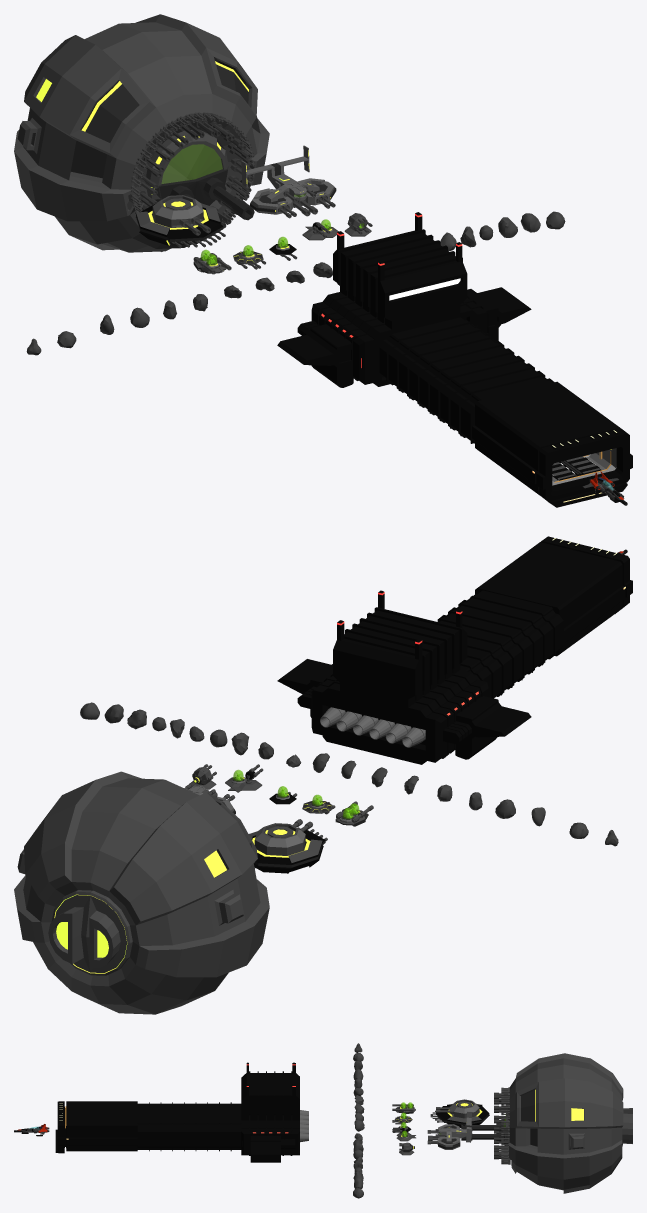
File: Killspace_assets.fbx
3 views of the same model, one above another, from view 1: azimuth 30°, elevation 25°; view 2: azimuth 150°, elevation 25°; view 3: azimuth 270°, elevation 25° (orthographic). The views are drawn at different scales.
Parts seen in each view (by area): view 1: Sphere, Cube.020, Cube.021, Cube.022, Cylinder.027, Cube, Cylinder.023, Cylinder.026, Cylinder.022, Cylinder.028, Cube.019, Cube.016; view 2: Sphere, Cube.021, Cube.020, Cube.022, Cylinder.033, Cylinder.023, Cylinder.022; view 3: Sphere, Cube.020, Cube.021, Cube.022, Cube, Cylinder.027, Cylinder.026, Cylinder.023, Cylinder.028, Cylinder.022, Cylinder.033.
Boxes of the visible parts, x1,y1,x2,y2 form: Sphere: (14, 14, 269, 252); Cube.020: (379, 317, 632, 507); Cube.021: (311, 212, 488, 386); Cube.022: (277, 287, 531, 387); Cylinder.027: (137, 119, 253, 228); Cube: (241, 145, 336, 214); Cylinder.023: (136, 203, 223, 245); Cylinder.026: (130, 112, 255, 236); Cylinder.022: (152, 195, 203, 227); Cylinder.028: (169, 174, 254, 223); Cube.019: (552, 456, 601, 480); Cube.016: (552, 448, 616, 485); Sphere: (14, 771, 269, 1014); Cube.021: (311, 590, 488, 764); Cube.020: (437, 536, 632, 698); Cube.022: (277, 659, 531, 759); Cylinder.033: (320, 707, 425, 747); Cylinder.023: (248, 828, 325, 873); Cylinder.022: (254, 823, 305, 855); Sphere: (500, 1053, 632, 1193); Cube.020: (55, 1101, 241, 1153); Cube.021: (241, 1062, 299, 1155); Cube.022: (250, 1135, 295, 1162); Cube: (438, 1111, 472, 1149); Cylinder.027: (494, 1092, 509, 1159); Cylinder.026: (501, 1087, 510, 1164); Cylinder.023: (436, 1103, 489, 1127); Cylinder.028: (461, 1123, 505, 1141); Cylinder.022: (450, 1099, 479, 1118); Cylinder.033: (300, 1110, 308, 1142).
Size of the model in its own units: 30108 by 11613 by 52958.
